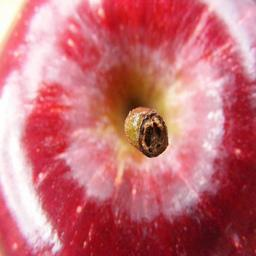apple: (0, 2, 254, 252)
